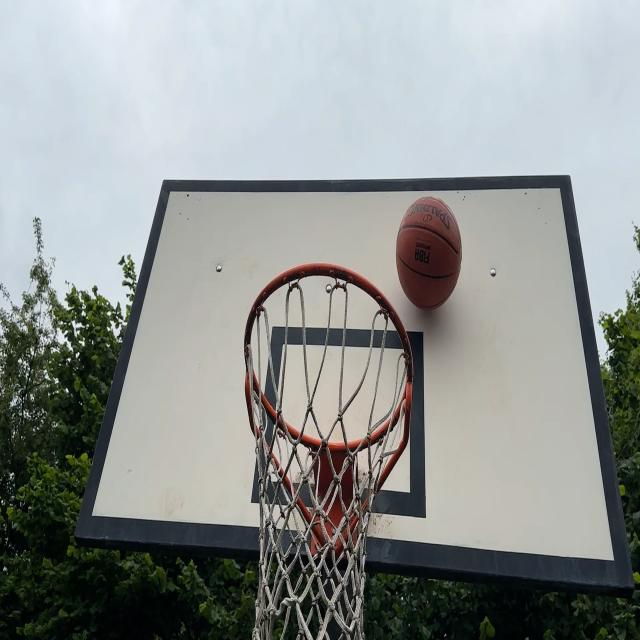rebound_hit: (396, 195, 464, 316)
